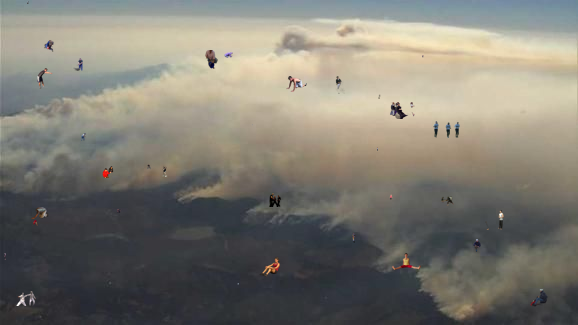Human: (392, 253, 421, 270), (388, 102, 416, 119), (433, 121, 460, 138), (259, 257, 280, 277), (485, 210, 504, 230), (530, 289, 548, 308), (286, 76, 307, 92), (37, 68, 53, 89), (16, 291, 36, 306), (147, 164, 167, 177), (205, 50, 218, 69), (31, 207, 49, 219), (335, 76, 346, 94), (345, 233, 363, 243), (269, 193, 281, 207), (101, 166, 114, 178), (441, 196, 454, 206), (73, 58, 83, 71), (44, 40, 54, 52), (473, 239, 481, 252), (224, 52, 233, 58), (81, 133, 86, 141), (32, 220, 38, 226), (389, 194, 393, 200), (117, 209, 122, 213), (378, 93, 381, 99), (4, 253, 6, 260), (27, 1, 29, 4), (422, 55, 424, 58), (237, 283, 239, 285), (377, 147, 378, 151), (252, 124, 253, 126)
